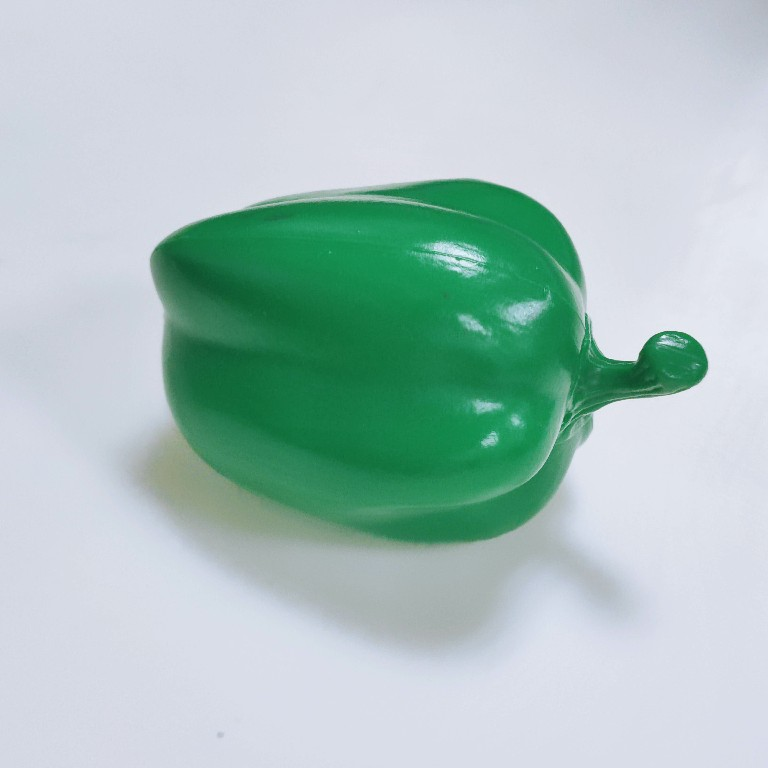fruit_pepper: (143, 174, 712, 550)
